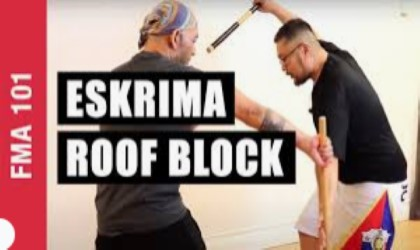baston_e: (315, 124, 335, 243), (215, 7, 251, 50)
baston_v: (313, 110, 332, 128), (202, 39, 217, 56)
